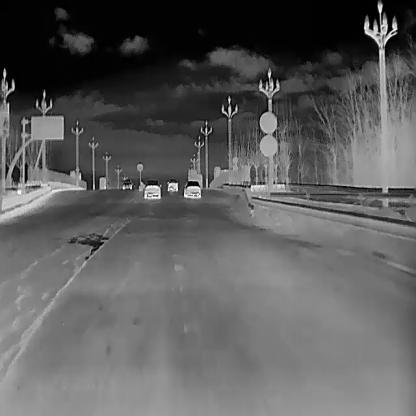car: (143, 178, 162, 198), (183, 180, 200, 198), (166, 177, 177, 191), (121, 177, 133, 189)
